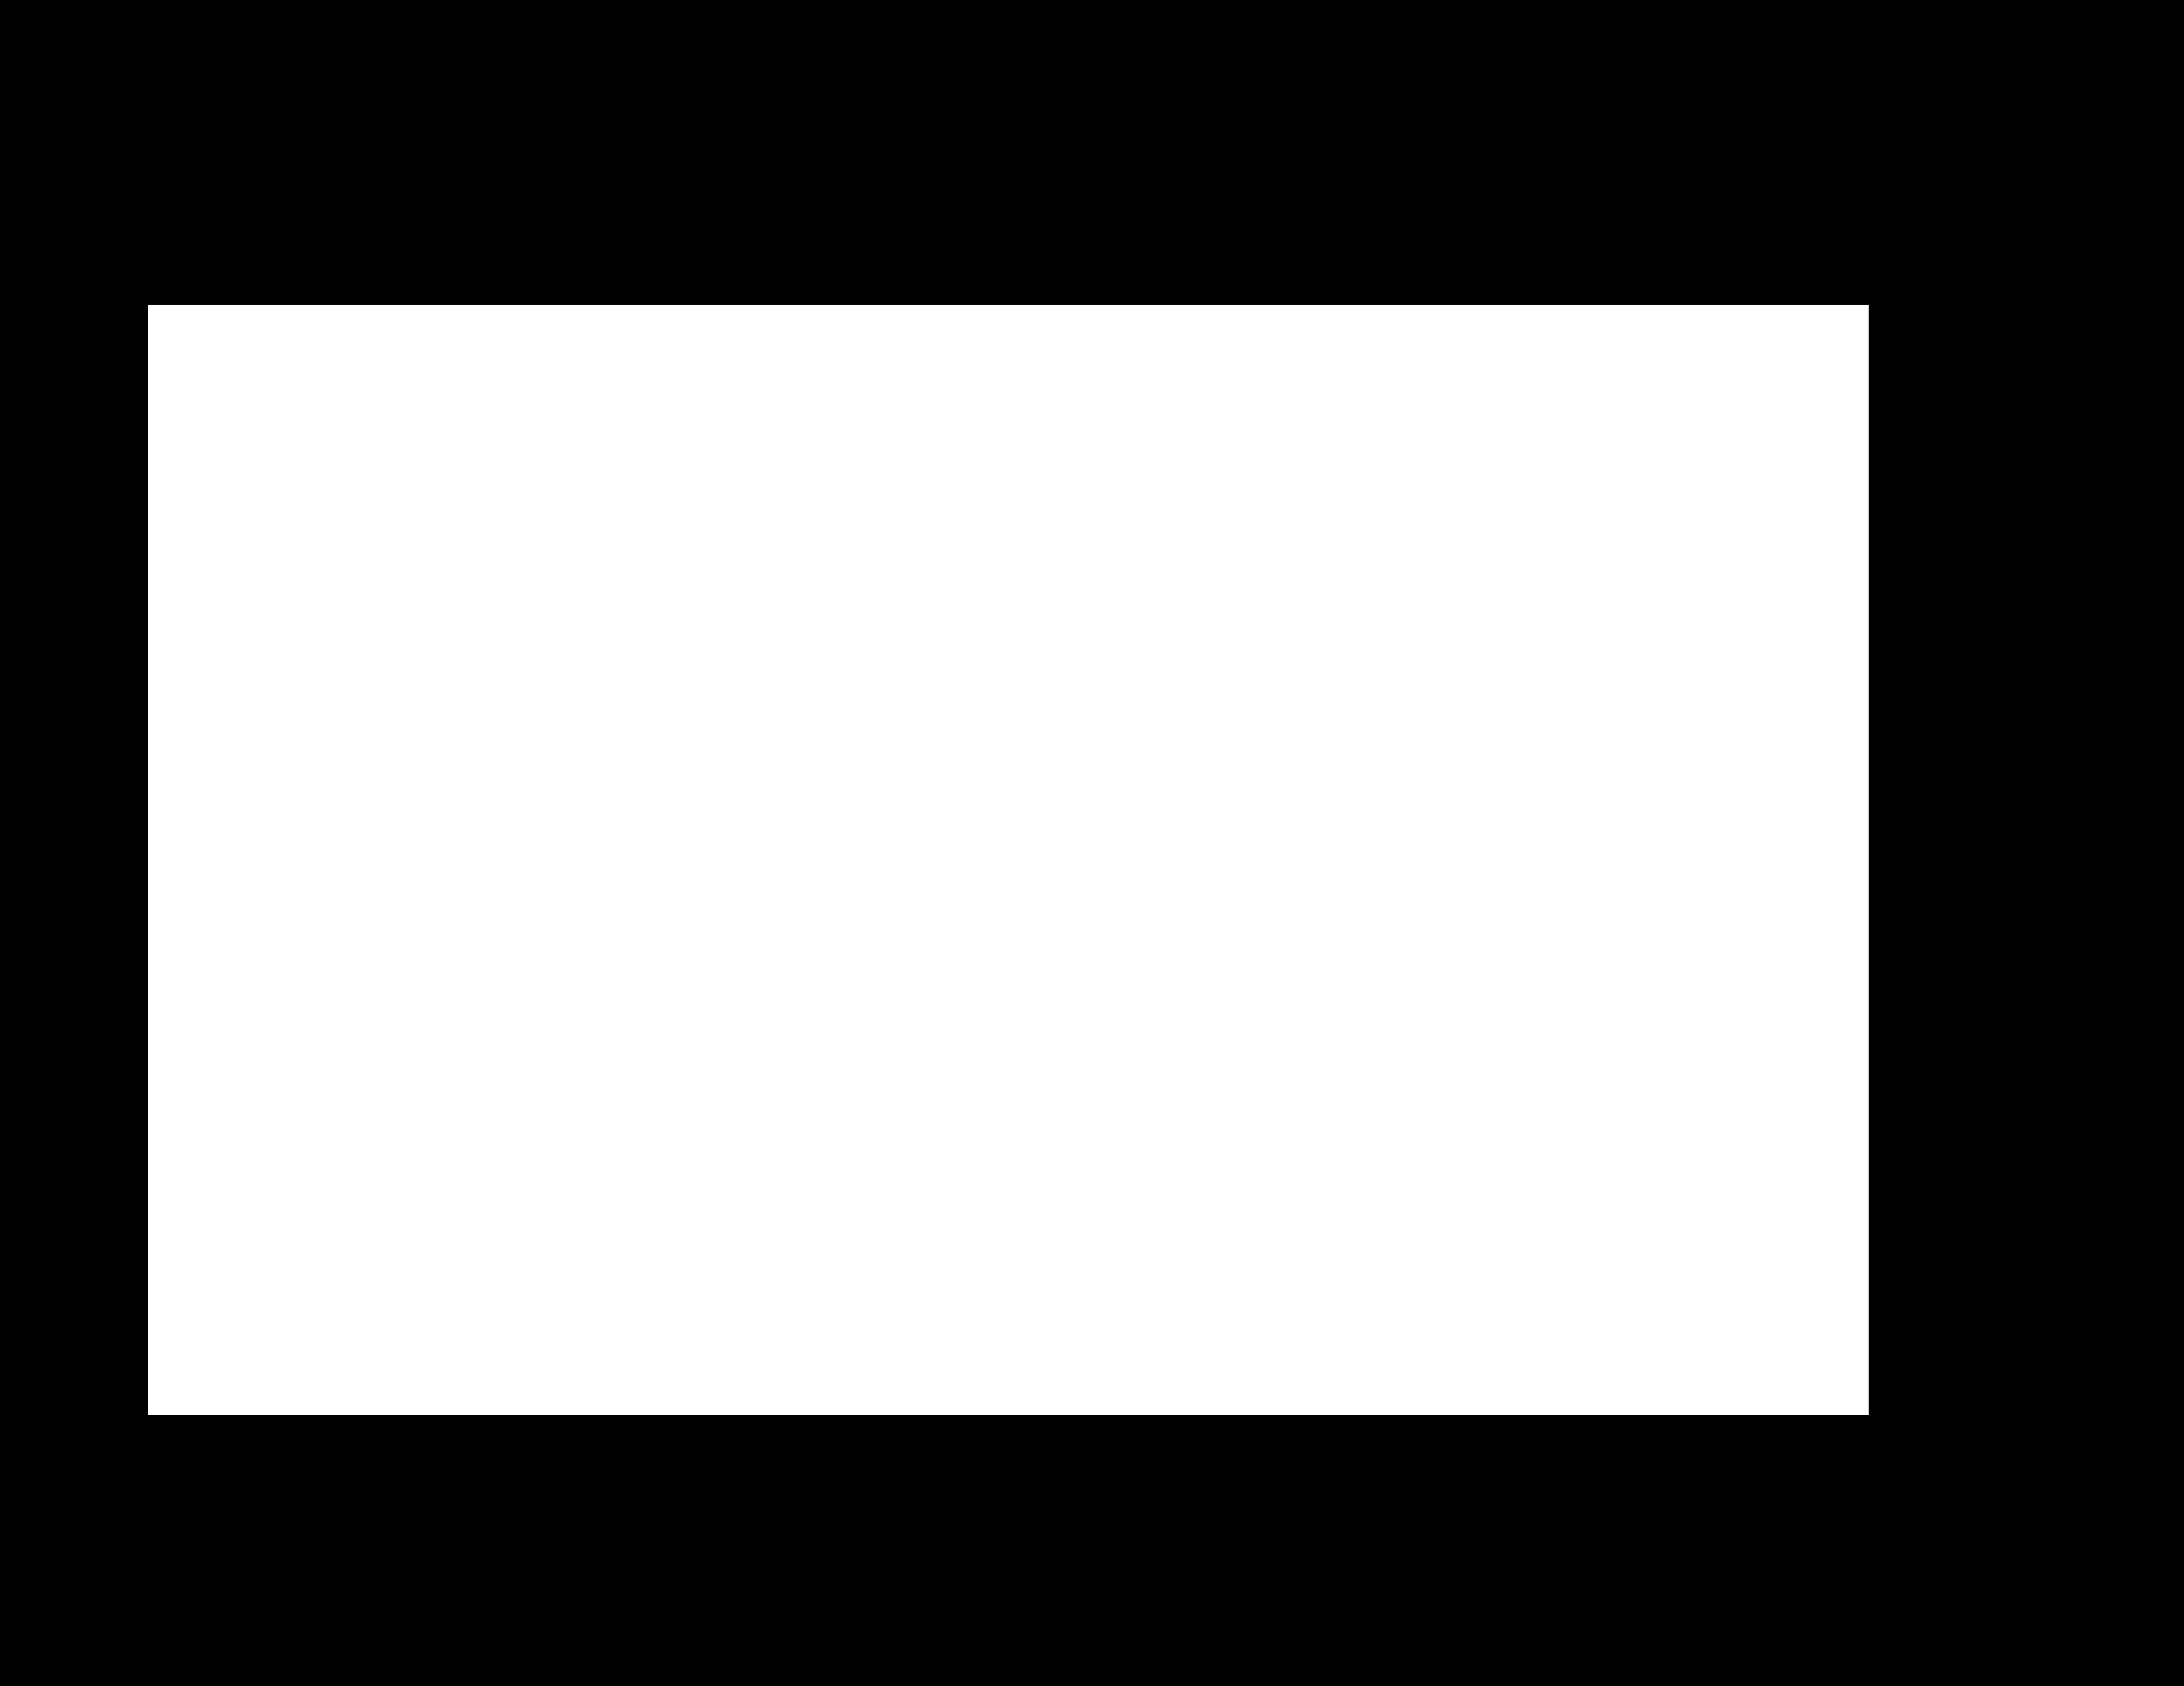table: (149, 305, 1867, 1415)
